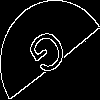G: (25, 25, 75, 86)
